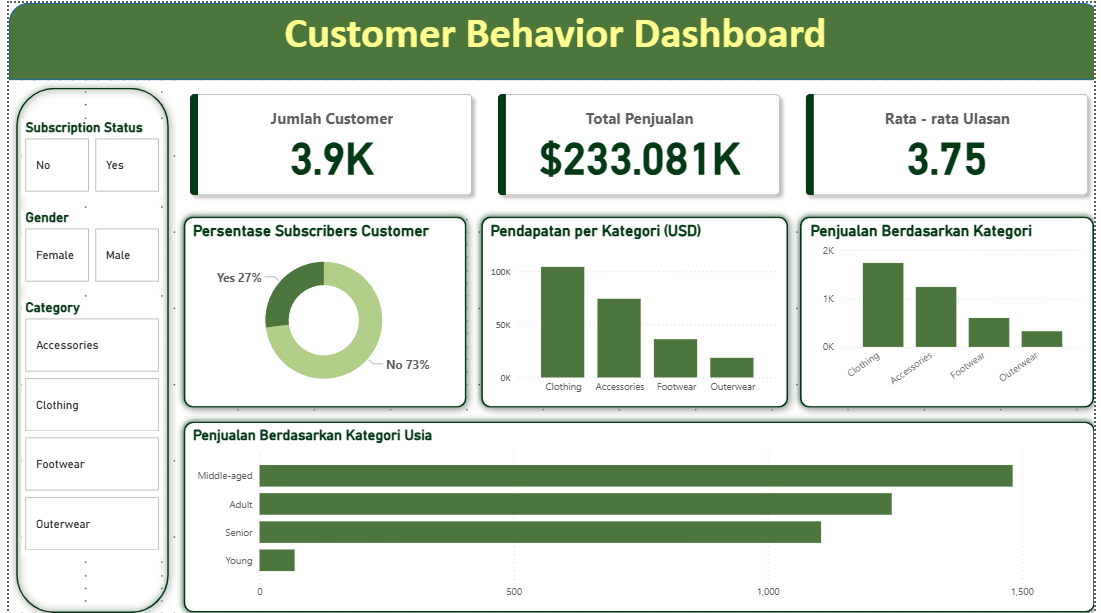

This screenshot's page, from the dashboard's own definition file:
{"tool":"powerbi","page":{"name":"Page 1","canvas":[1366,768],"ordinal":0},"visuals":[{"type":"cardVisual","fields":{"Data":["public customer.Number of Customer","public customer.Average Purchase Amount","public customer.Average Review Rating"]},"box":[208,96,1152,160],"z":0},{"type":"shape","box":[0,0,1360,96],"z":1000},{"type":"textbox","box":[0,0,1360,96],"z":2000},{"type":"shape","box":[208,256,370,256],"z":3000},{"type":"donutChart","title":"Persentase Subscribers Customer","fields":{"Category":["public customer.subscription_status"],"Y":["CountNonNull(public customer.customer_id)"]},"box":[224,272,336,224],"z":4000},{"type":"shape","box":[579,257,400,256],"z":5000},{"type":"clusteredColumnChart","title":"Pendapatan per Kategori (USD)","fields":{"Y":["Sum(public customer.purchase_amount_usd)"],"Category":["public customer.category"]},"box":[595,273,368,224],"z":6000},{"type":"shape","box":[0,96,208,672],"z":7000},{"type":"advancedSlicerVisual","title":"Subscription Status","fields":{"Values":["public customer.subscription_status"]},"box":[16,144,176,96],"z":8000},{"type":"advancedSlicerVisual","title":"Gender","fields":{"Values":["public customer.gender"]},"box":[16,256,176,96],"z":9000},{"type":"shape","box":[208,512,1152,256],"z":10000},{"type":"clusteredBarChart","title":"Penjualan Berdasarkan Kategori Usia","fields":{"Category":["public customer.age_group"],"Y":["CountNonNull(public customer.customer_id)"]},"box":[224,528,1120,224],"z":11000},{"type":"shape","box":[976,256,384,256],"z":12000},{"type":"clusteredColumnChart","title":"Penjualan Berdasarkan Kategori","fields":{"Y":["CountNonNull(public customer.customer_id)"],"Category":["public customer.category"]},"box":[992,272,352,224],"z":13000},{"type":"advancedSlicerVisual","title":"Category","fields":{"Values":["public customer.category"]},"box":[16,368,176,320],"z":14000}]}

Visuals, with their boxes in screenshot pixels (x1, y1, x2, y2), scaled from the page's 1366x768 canvas onto the 1101x613 screenshot:
cardVisual - public customer.Number of Customer x public customer.Average Purchase Amount: bbox(168, 77, 1096, 204)
shape: bbox(0, 0, 1096, 77)
textbox: bbox(0, 0, 1096, 77)
shape: bbox(168, 204, 466, 409)
"Persentase Subscribers Customer" donutChart: bbox(181, 217, 451, 396)
shape: bbox(467, 205, 789, 409)
"Pendapatan per Kategori (USD)" clusteredColumnChart: bbox(480, 218, 776, 397)
shape: bbox(0, 77, 168, 612)
"Subscription Status" advancedSlicerVisual: bbox(13, 115, 155, 192)
"Gender" advancedSlicerVisual: bbox(13, 204, 155, 281)
shape: bbox(168, 409, 1096, 612)
"Penjualan Berdasarkan Kategori Usia" clusteredBarChart: bbox(181, 421, 1083, 600)
shape: bbox(787, 204, 1096, 409)
"Penjualan Berdasarkan Kategori" clusteredColumnChart: bbox(800, 217, 1083, 396)
"Category" advancedSlicerVisual: bbox(13, 294, 155, 549)
